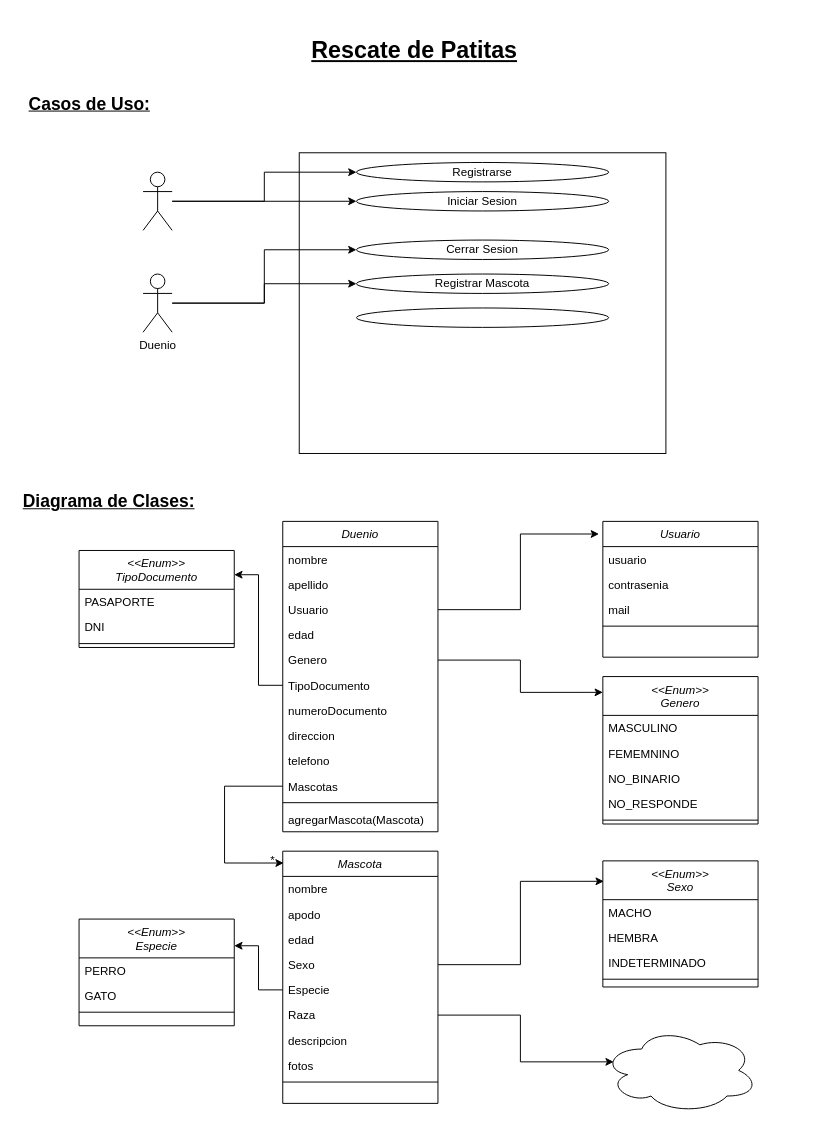
Image size: 828x1130. Some labels were removed from this diagram. The shapes that lost their labels are listed below. From the top down, each one's centre as x and y in pixels, then its label:
At [157,200]: "Persona".
At [482,317]: "Encontre Mascota".
At [680,1070]: "API Raza".
